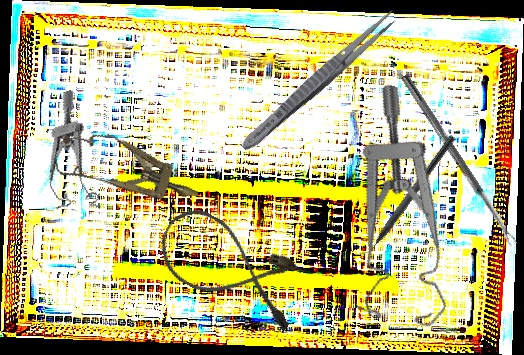Cannula: (147, 199, 318, 336)
Chopper: (352, 128, 457, 266)
Dressing Forceps: (236, 3, 403, 157)
Speculum: (310, 82, 509, 339), (49, 120, 207, 221), (22, 89, 110, 220)
Surgical Spoon: (399, 73, 518, 248)
